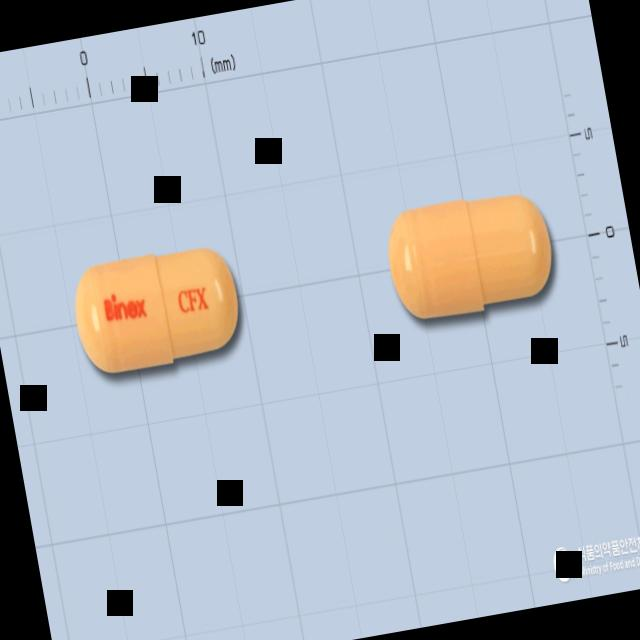Amoclan Duo Tab- Myungmoon: (382, 182, 562, 326), (66, 238, 248, 380)
